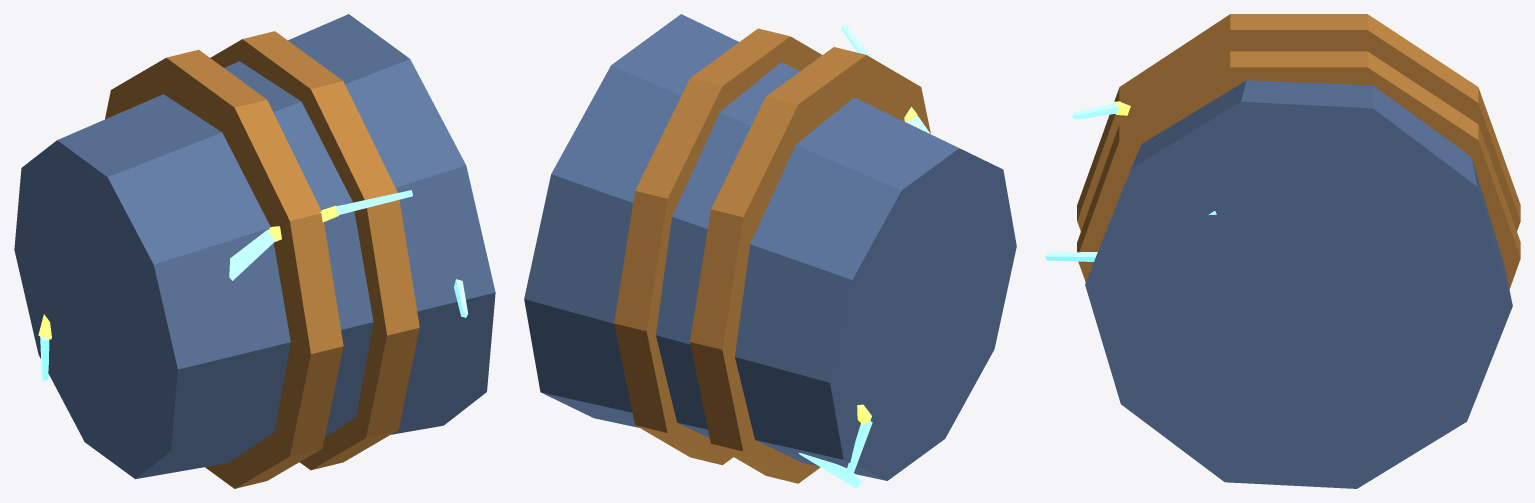
The model's file is storm_titan_arm_r.glb.
The picture shows the model from 3 angles, left to right: view 1: azimuth 30°, elevation 25°; view 2: azimuth 150°, elevation 25°; view 3: azimuth 270°, elevation 25°; orthographic projection.
Visible parts, largest first — view 1: storm_titan_arm_r; view 2: storm_titan_arm_r; view 3: storm_titan_arm_r.
Boxes of the visible parts, x1,y1,x2,y2 form: storm_titan_arm_r: (14, 14, 495, 488); storm_titan_arm_r: (524, 14, 1016, 488); storm_titan_arm_r: (1045, 14, 1520, 488).
Bounding box in the file's own units: 0.2951 × 0.3477 × 0.3773.
